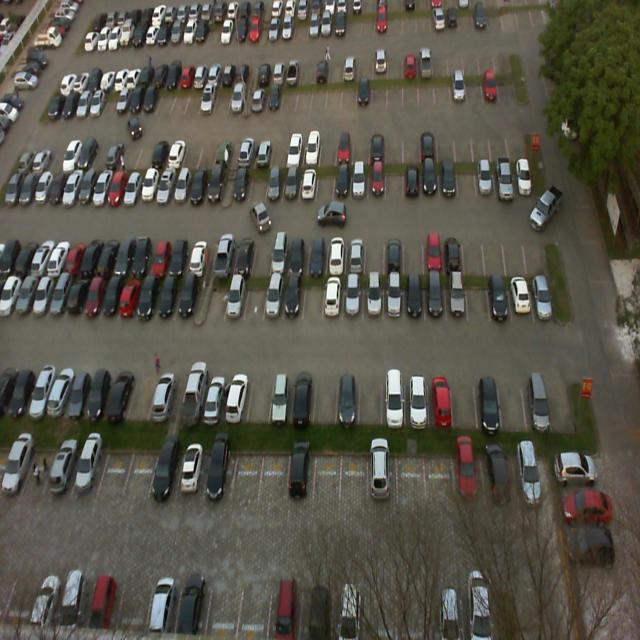space-empty: (94, 445, 132, 502), (123, 442, 157, 502), (231, 451, 264, 505), (545, 370, 576, 426), (312, 451, 342, 507), (259, 448, 291, 500), (21, 446, 55, 494), (499, 373, 527, 431), (452, 374, 479, 426), (312, 372, 336, 428), (127, 370, 153, 420), (246, 372, 272, 422), (359, 371, 382, 426), (241, 275, 265, 325), (483, 227, 507, 275), (205, 273, 225, 327), (505, 227, 527, 273), (525, 229, 549, 271), (303, 276, 324, 324), (467, 275, 488, 322), (404, 226, 424, 272), (464, 228, 484, 272), (251, 235, 273, 273), (364, 235, 383, 273), (458, 162, 478, 198), (250, 166, 268, 204), (388, 162, 404, 200), (316, 166, 332, 200)
space-occupied: (43, 445, 79, 499), (71, 446, 106, 501), (148, 444, 182, 500), (175, 445, 209, 495), (204, 448, 238, 498), (223, 370, 254, 424), (64, 367, 93, 421), (476, 372, 502, 429), (523, 371, 549, 428), (222, 272, 249, 326), (117, 271, 145, 323), (83, 371, 112, 421), (288, 449, 314, 504), (136, 267, 162, 321), (428, 375, 454, 429), (106, 371, 134, 421), (268, 373, 294, 425), (154, 274, 180, 324), (203, 370, 229, 420), (262, 270, 286, 324), (530, 270, 557, 318), (148, 374, 175, 422), (174, 272, 198, 324), (405, 374, 429, 426), (101, 270, 125, 320), (335, 373, 359, 423), (290, 372, 313, 424), (382, 371, 405, 423), (486, 273, 511, 320), (181, 373, 206, 419), (443, 226, 466, 273), (130, 236, 156, 276), (113, 238, 140, 276), (167, 238, 193, 276), (148, 237, 172, 278), (509, 276, 531, 320), (188, 164, 211, 206), (322, 277, 343, 323), (444, 277, 467, 319), (282, 276, 302, 324), (425, 229, 445, 276), (188, 239, 212, 278), (155, 165, 177, 207), (172, 165, 194, 207), (139, 165, 162, 205), (511, 156, 534, 196), (363, 276, 383, 322), (404, 274, 424, 320), (426, 276, 446, 322), (382, 231, 404, 272), (204, 166, 226, 206), (287, 234, 309, 274), (231, 164, 252, 205), (229, 238, 251, 277), (345, 231, 364, 275), (384, 276, 402, 322), (213, 239, 235, 275), (268, 236, 290, 272), (345, 275, 362, 321), (307, 234, 327, 273), (324, 235, 344, 273), (478, 158, 496, 198), (299, 166, 317, 205), (283, 164, 300, 205), (368, 162, 386, 200), (494, 160, 514, 194), (267, 166, 283, 207), (333, 165, 350, 201), (403, 163, 421, 197), (422, 163, 440, 197), (440, 162, 458, 195), (351, 164, 367, 198)
